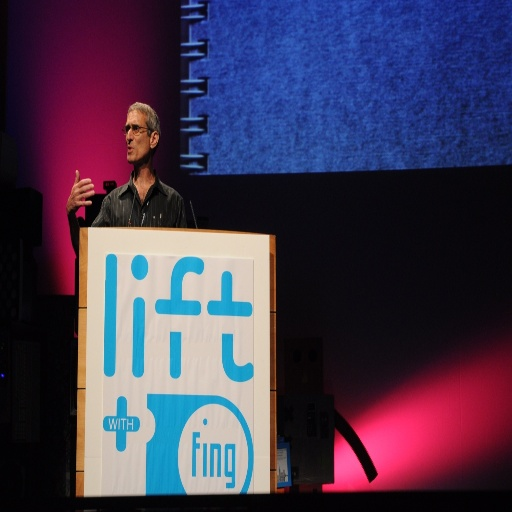hand: (63, 168, 96, 212)
